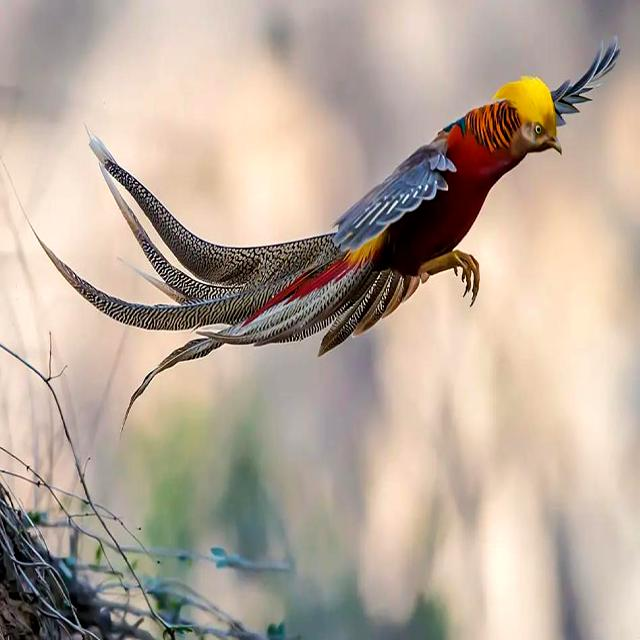Chrysolophus pictus feather: (37, 129, 408, 413)
